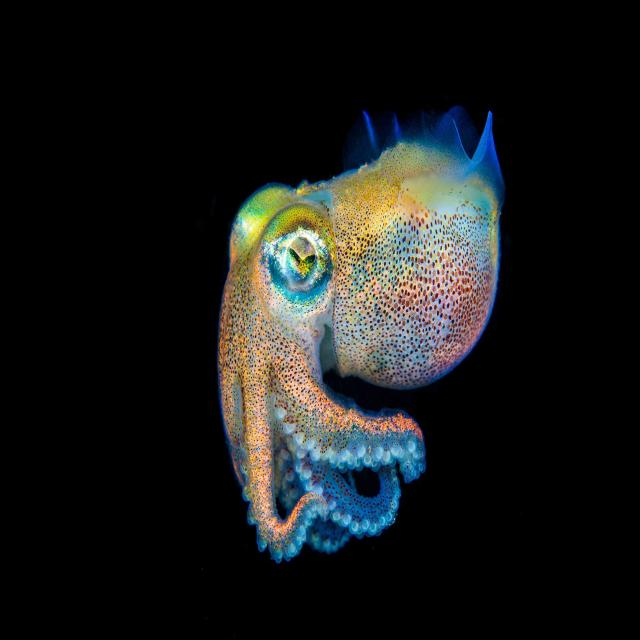SQUID: (199, 69, 509, 614)
